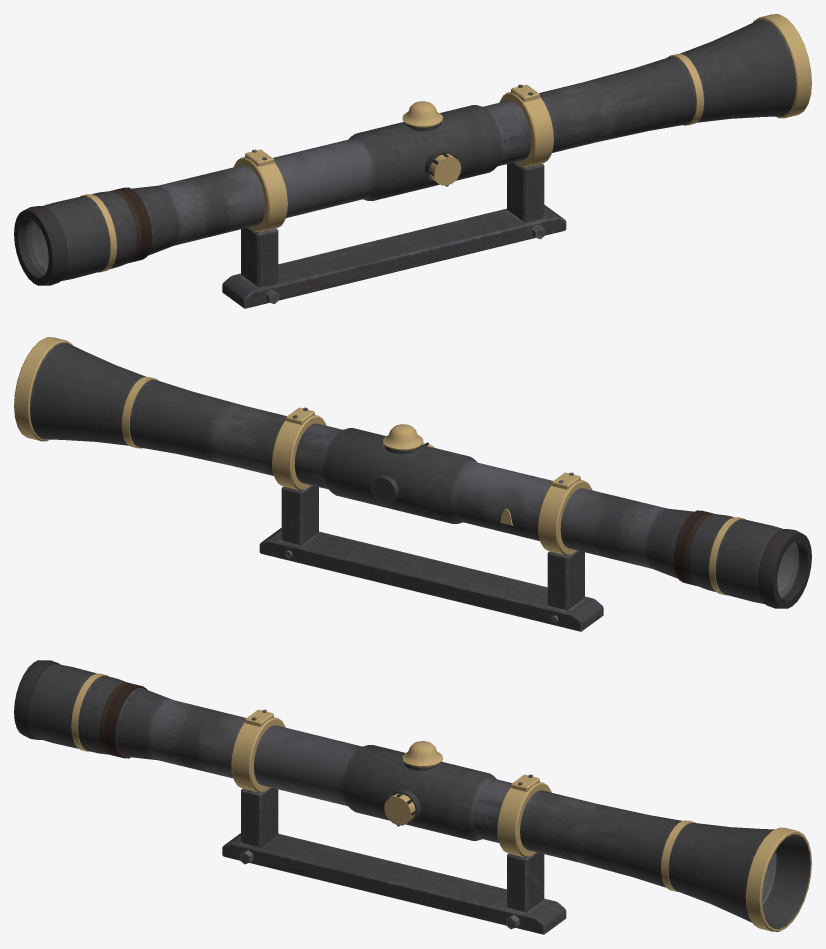
Rendered from belfry_8x.glb.
3 views of the same model, one above another, from view 1: azimuth 30°, elevation 25°; view 2: azimuth 150°, elevation 25°; view 3: azimuth 330°, elevation 25° (orthographic).
Parts seen in each view (by area): view 1: belfry_8x, Lens; view 2: belfry_8x, Lens; view 3: belfry_8x.
Part boxes in pixels (x1=…): belfry_8x: x1=14, y1=14, x2=811, y2=308; Lens: x1=27, y1=219, x2=48, y2=274; belfry_8x: x1=14, y1=337, x2=811, y2=631; Lens: x1=777, y1=542, x2=798, y2=597; belfry_8x: x1=14, y1=660, x2=811, y2=934.
Bounding box in the file's own units: 0.4246 × 0.0814 × 0.0508.
Materials: 2 (1 with a texture image).
